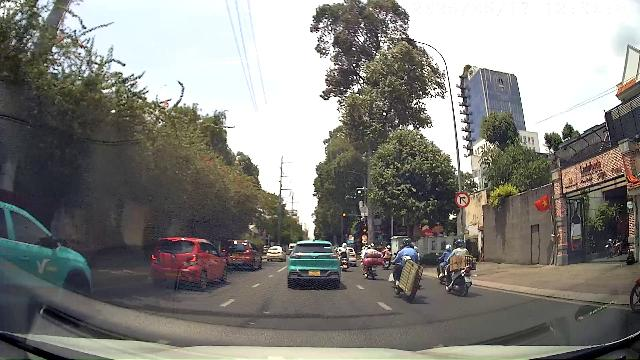123b-cam-re-phai: (455, 191, 470, 208)
